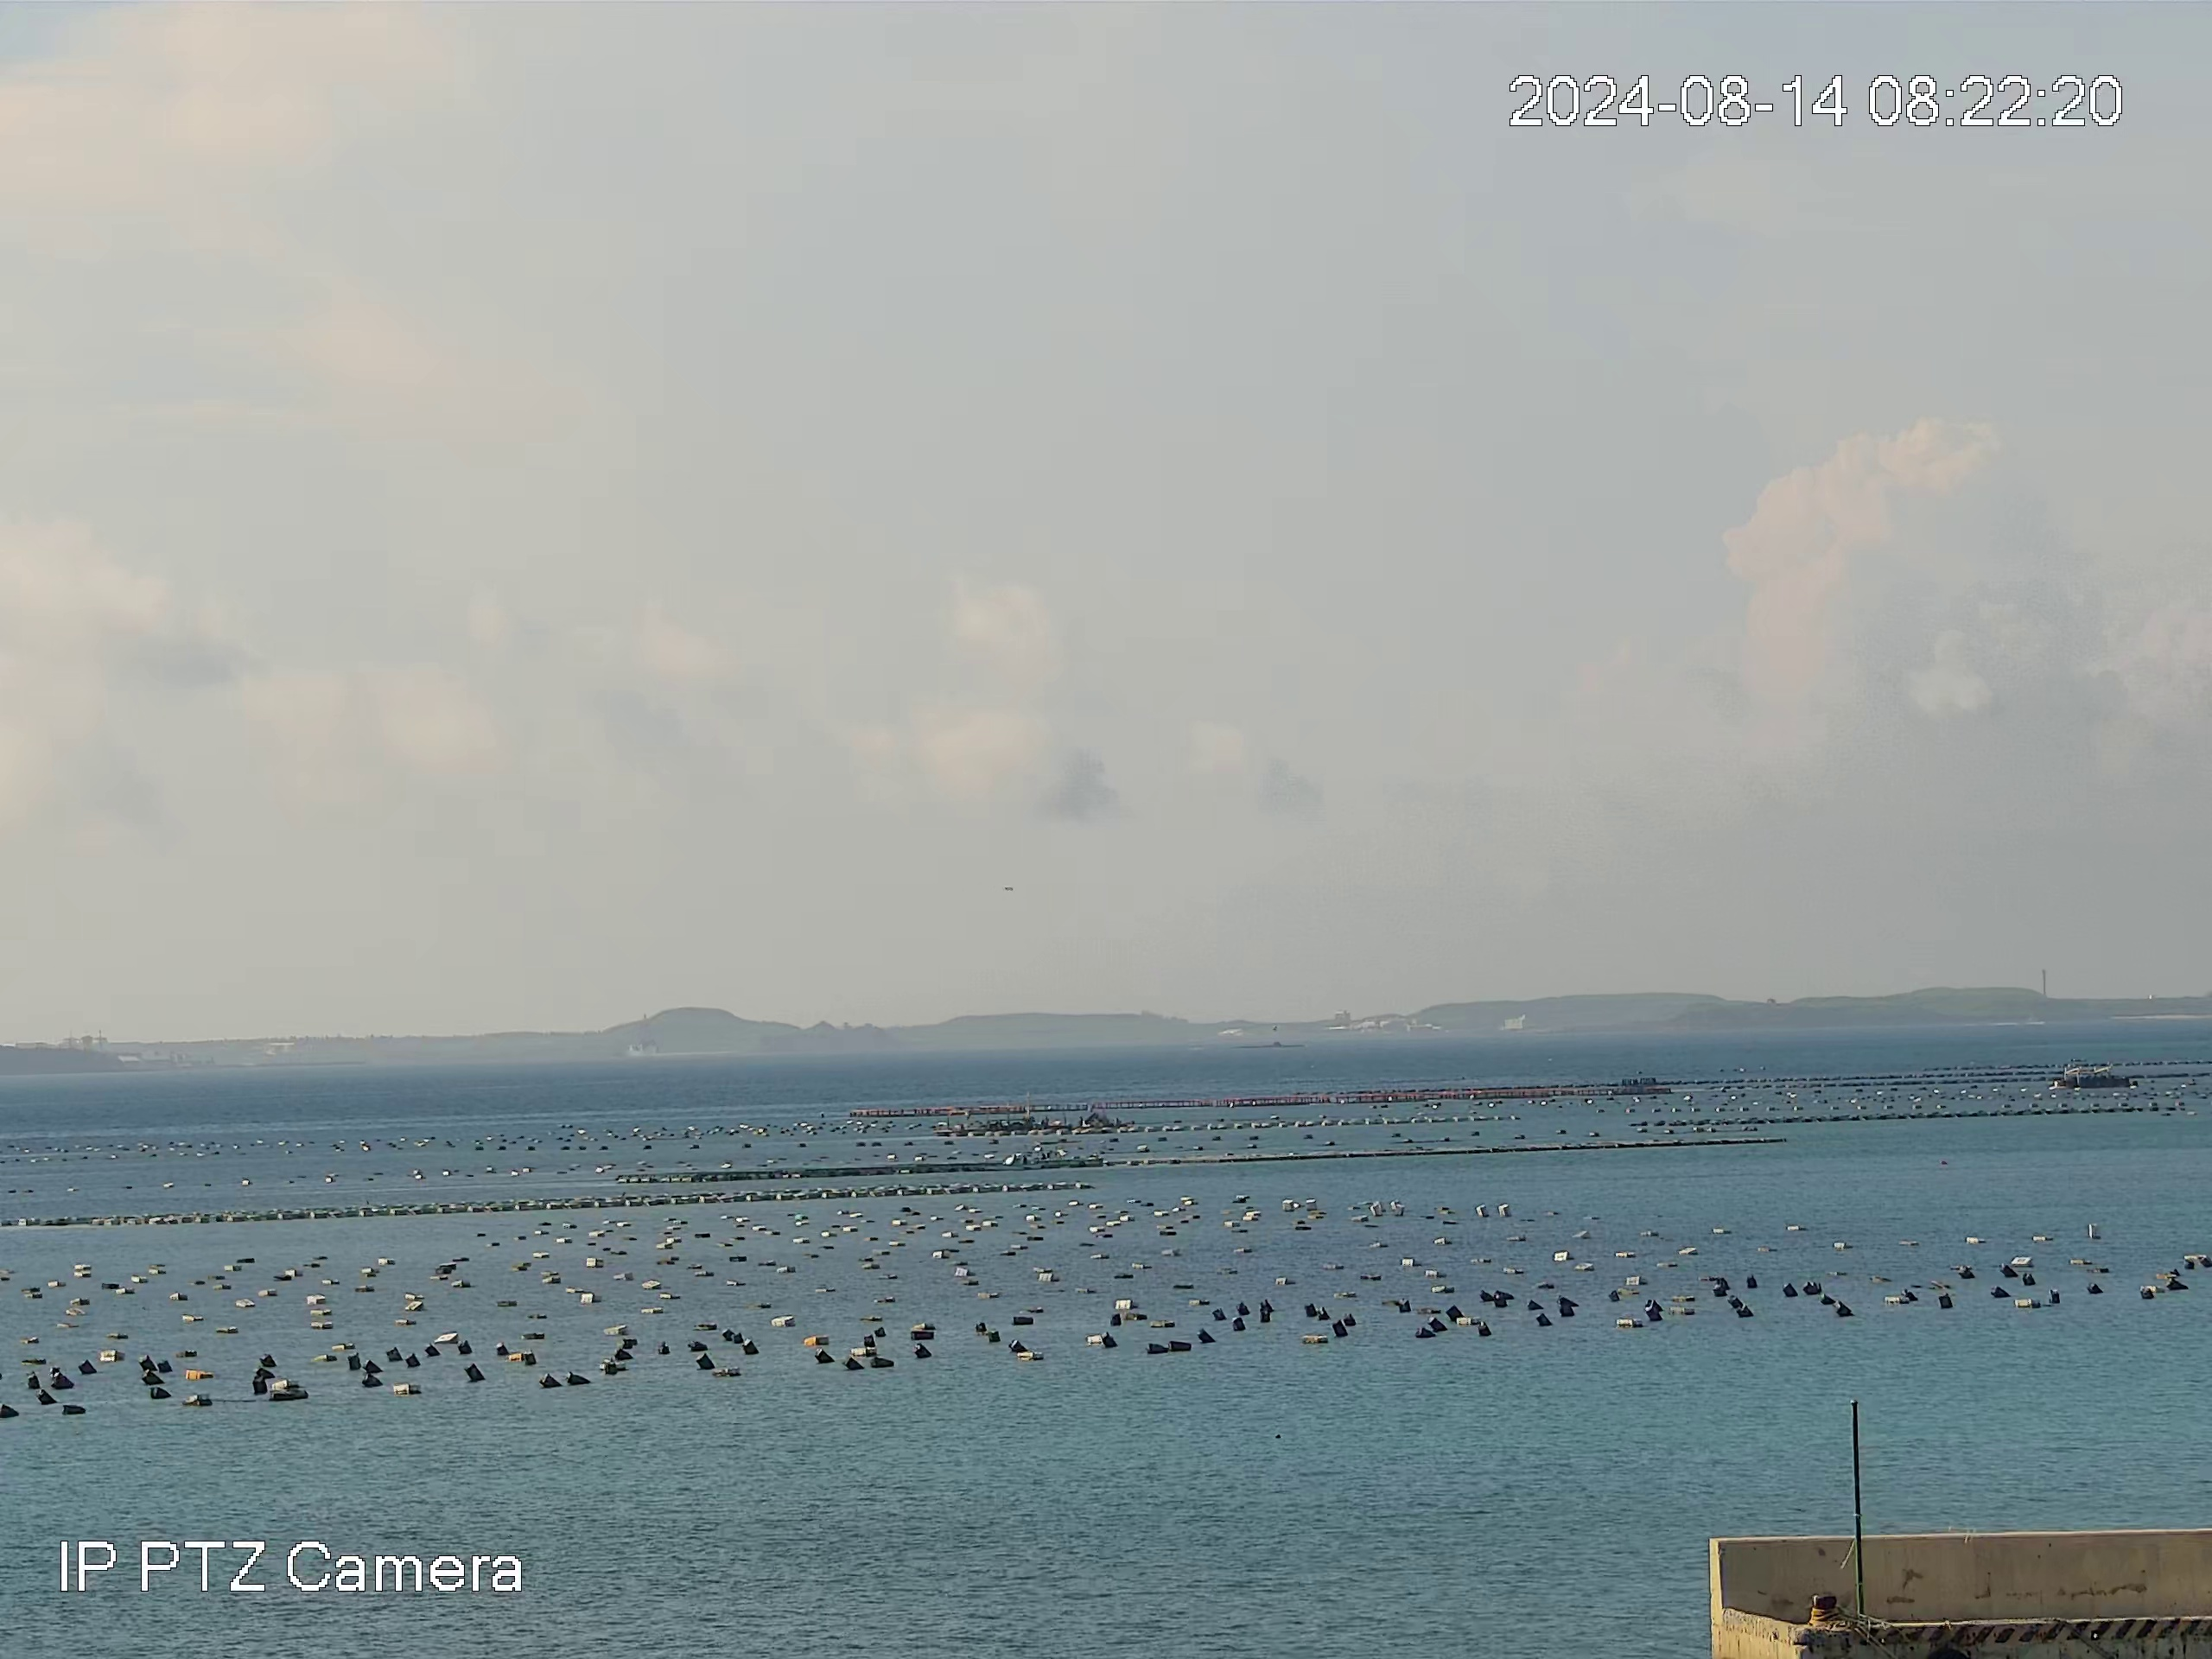boat: (2057, 1063, 2135, 1093)
